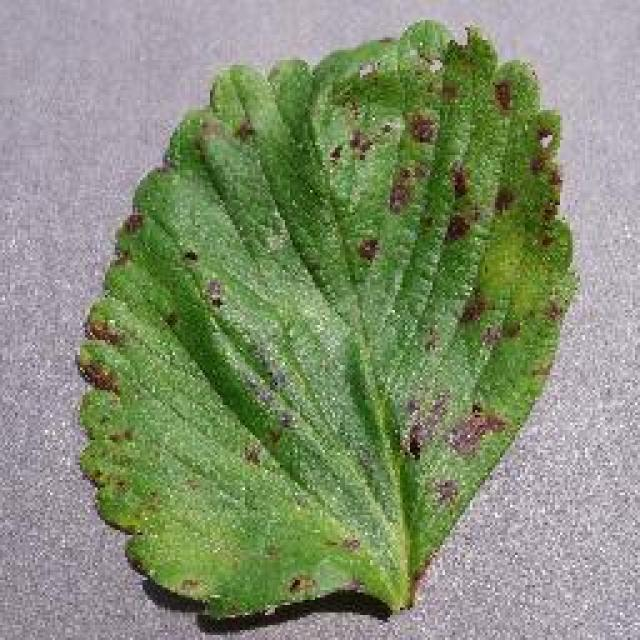Strawberry leaf scorch: (197, 105, 495, 487)
